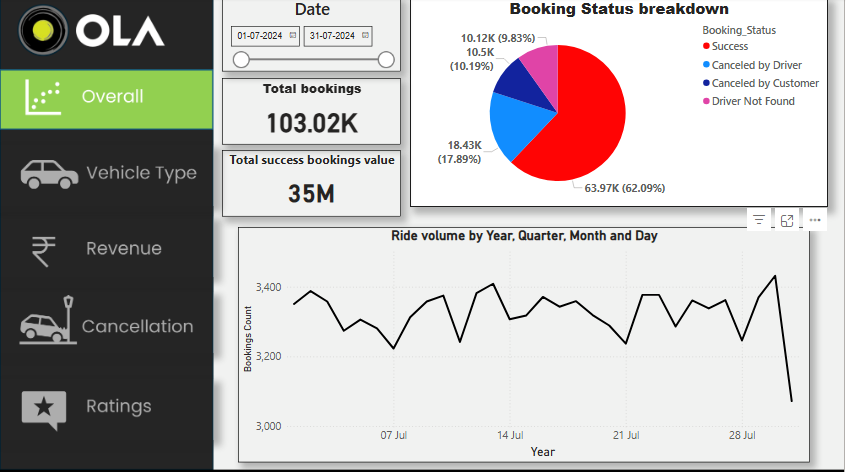

The page's visual inventory and layout, read from the dashboard file:
{"tool":"powerbi","page":{"name":"Overall","canvas":[1280,720],"ordinal":0},"visuals":[{"type":"actionButton","box":[0,224.2,324.7,92.4],"z":0},{"type":"actionButton","box":[0,224.2,324.7,92.4],"z":1000},{"type":"actionButton","box":[0,332.8,324.7,92.4],"z":2000},{"type":"actionButton","box":[0,446.9,324.7,92.4],"z":3000},{"type":"actionButton","box":[0,578.7,324.7,92.4],"z":4000},{"type":"lineChart","title":"Ride volume by Year, Quarter, Month and Day","fields":{"Y":["CountNonNull(July.Booking_ID)"],"Category":["July.Date.Variation.Date Hierarchy.Year","July.Date.Variation.Date Hierarchy.Quarter","July.Date.Variation.Date Hierarchy.Month","July.Date.Variation.Date Hierarchy.Day"]},"box":[361.4,348.6,867.1,357.1],"z":5000},{"type":"pieChart","title":"Booking Status breakdown","fields":{"Y":["CountNonNull(July.Booking_Status)"],"Category":["July.Booking_Status"]},"box":[621.4,1.4,634.3,317.1],"z":6000},{"type":"slicer","title":"Date","fields":{"Values":["July.Date"]},"box":[337.1,0,271.4,112.9],"z":7000},{"type":"card","title":"Total success bookings value","fields":{"Values":["Sum(July.Booking_Value)"]},"box":[337.1,231.4,271.4,101.4],"z":8000},{"type":"card","title":"Total bookings ","fields":{"Values":["CountNonNull(July.Booking_ID)"]},"box":[337.1,122.9,271.4,101.4],"z":9000}]}

Visuals, with their boxes on the page's 1280x720 design canvas (x1, y1, x2, y2). These are canvas units, not pixel positions in the 846x472 screenshot, which may show the page scaled, cropped or inside an application window:
actionButton: bbox=[0, 224, 325, 317]
actionButton: bbox=[0, 224, 325, 317]
actionButton: bbox=[0, 333, 325, 425]
actionButton: bbox=[0, 447, 325, 539]
actionButton: bbox=[0, 579, 325, 671]
"Ride volume by Year, Quarter, Month and Day" lineChart: bbox=[361, 349, 1228, 706]
"Booking Status breakdown" pieChart: bbox=[621, 1, 1256, 318]
"Date" slicer: bbox=[337, 0, 608, 113]
"Total success bookings value" card: bbox=[337, 231, 608, 333]
"Total bookings " card: bbox=[337, 123, 608, 224]
